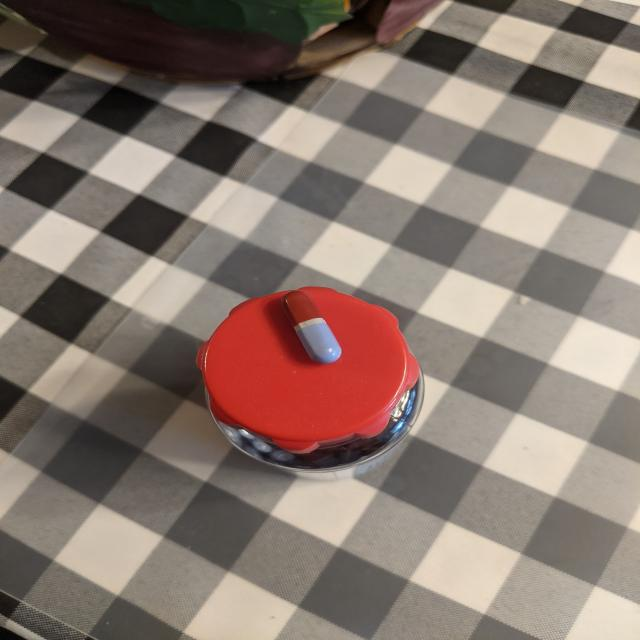non-organic waste: (279, 290, 343, 364)
